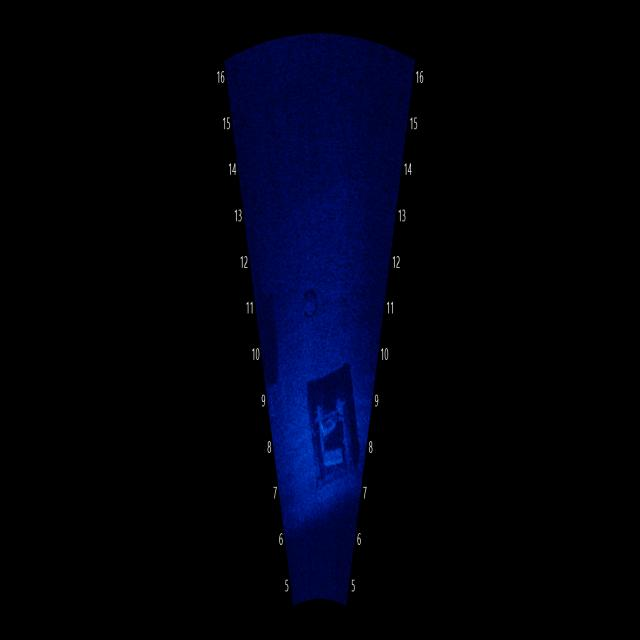square: (300, 372, 360, 503)
